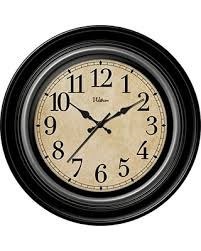alarm_clock: (5, 24, 193, 224), (5, 24, 193, 221), (5, 33, 193, 221)
